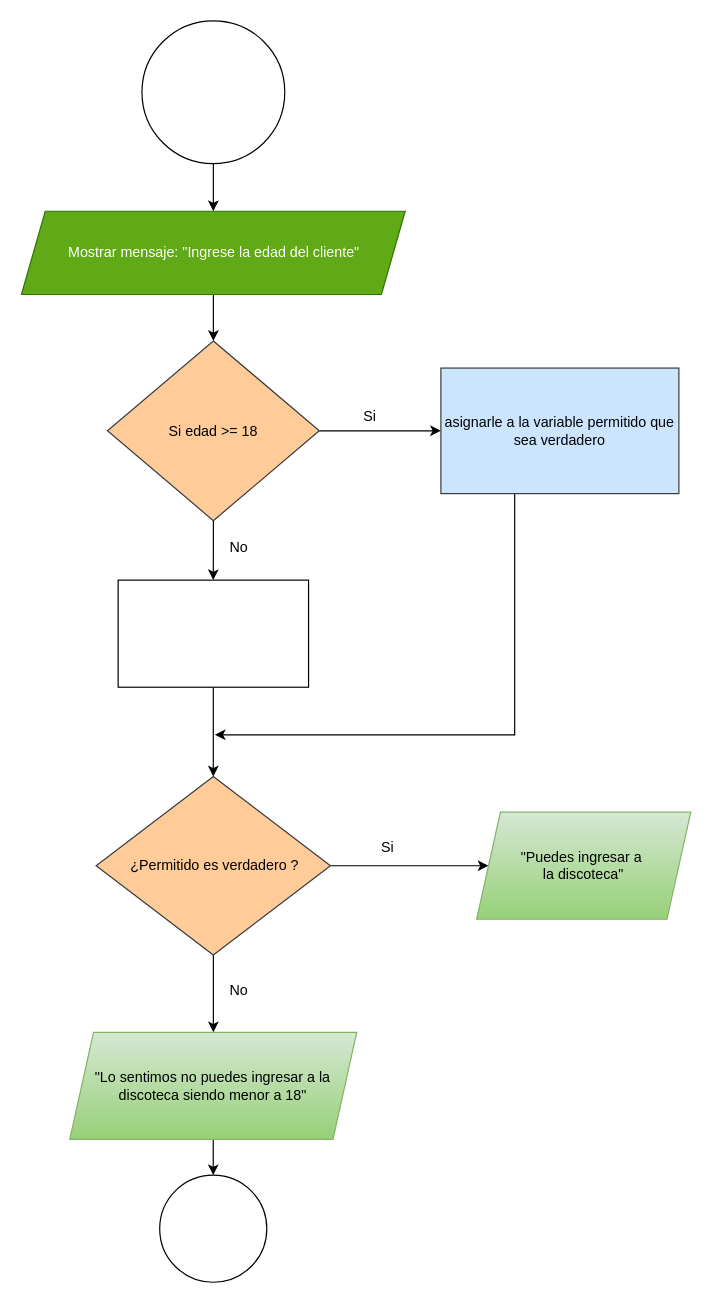
Some shapes in this 712 by 1303 pixel diagram are drawn without their labels. The shapes that lost their labels are listed below. From the top down, each one's box as (x1, y1, x2, y2) in pixels, then its label:
(141, 20, 285, 164): Inicio
(117, 579, 309, 687): asignarle a la variable permitido que sea falso
(159, 1174, 267, 1282): Fin
